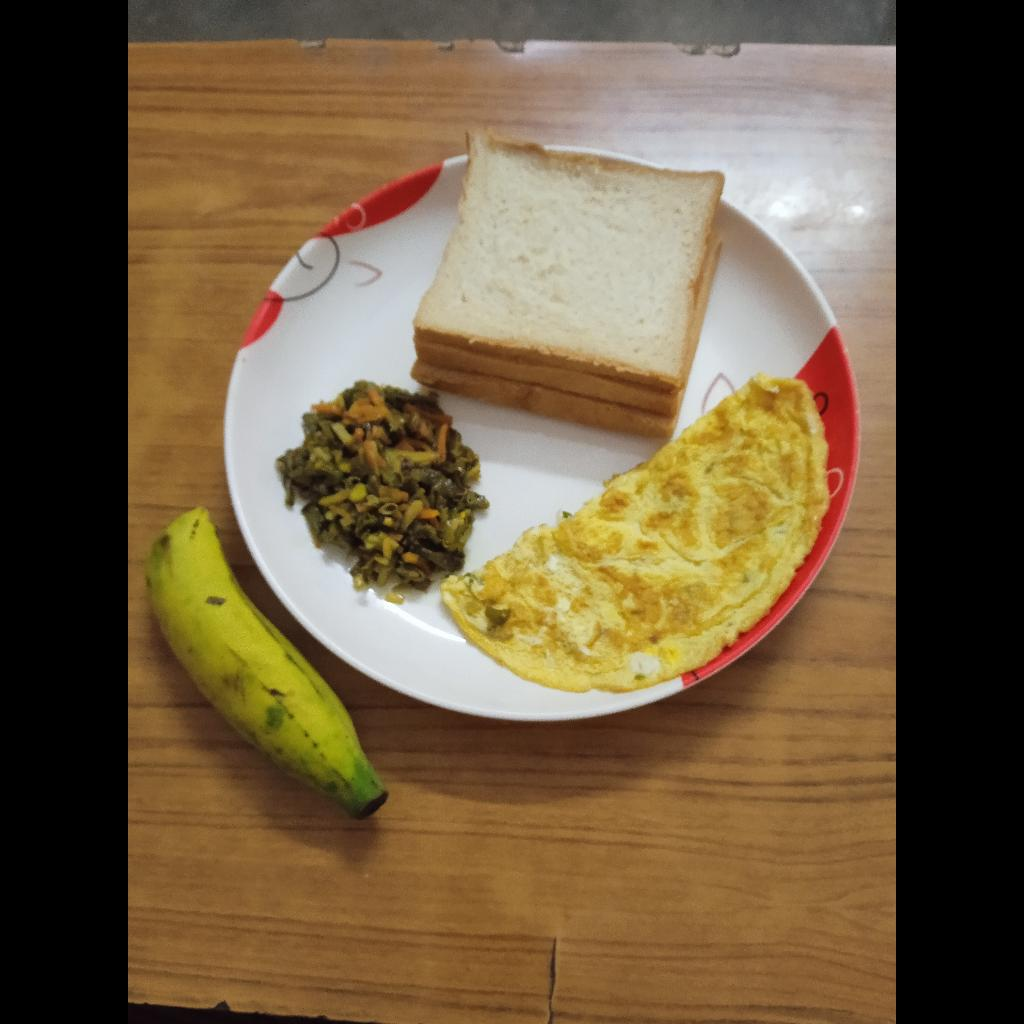banana: (150, 508, 388, 812)
bread: (406, 129, 723, 438)
egg-poached: (435, 378, 831, 703)
shak: (279, 386, 487, 583)
